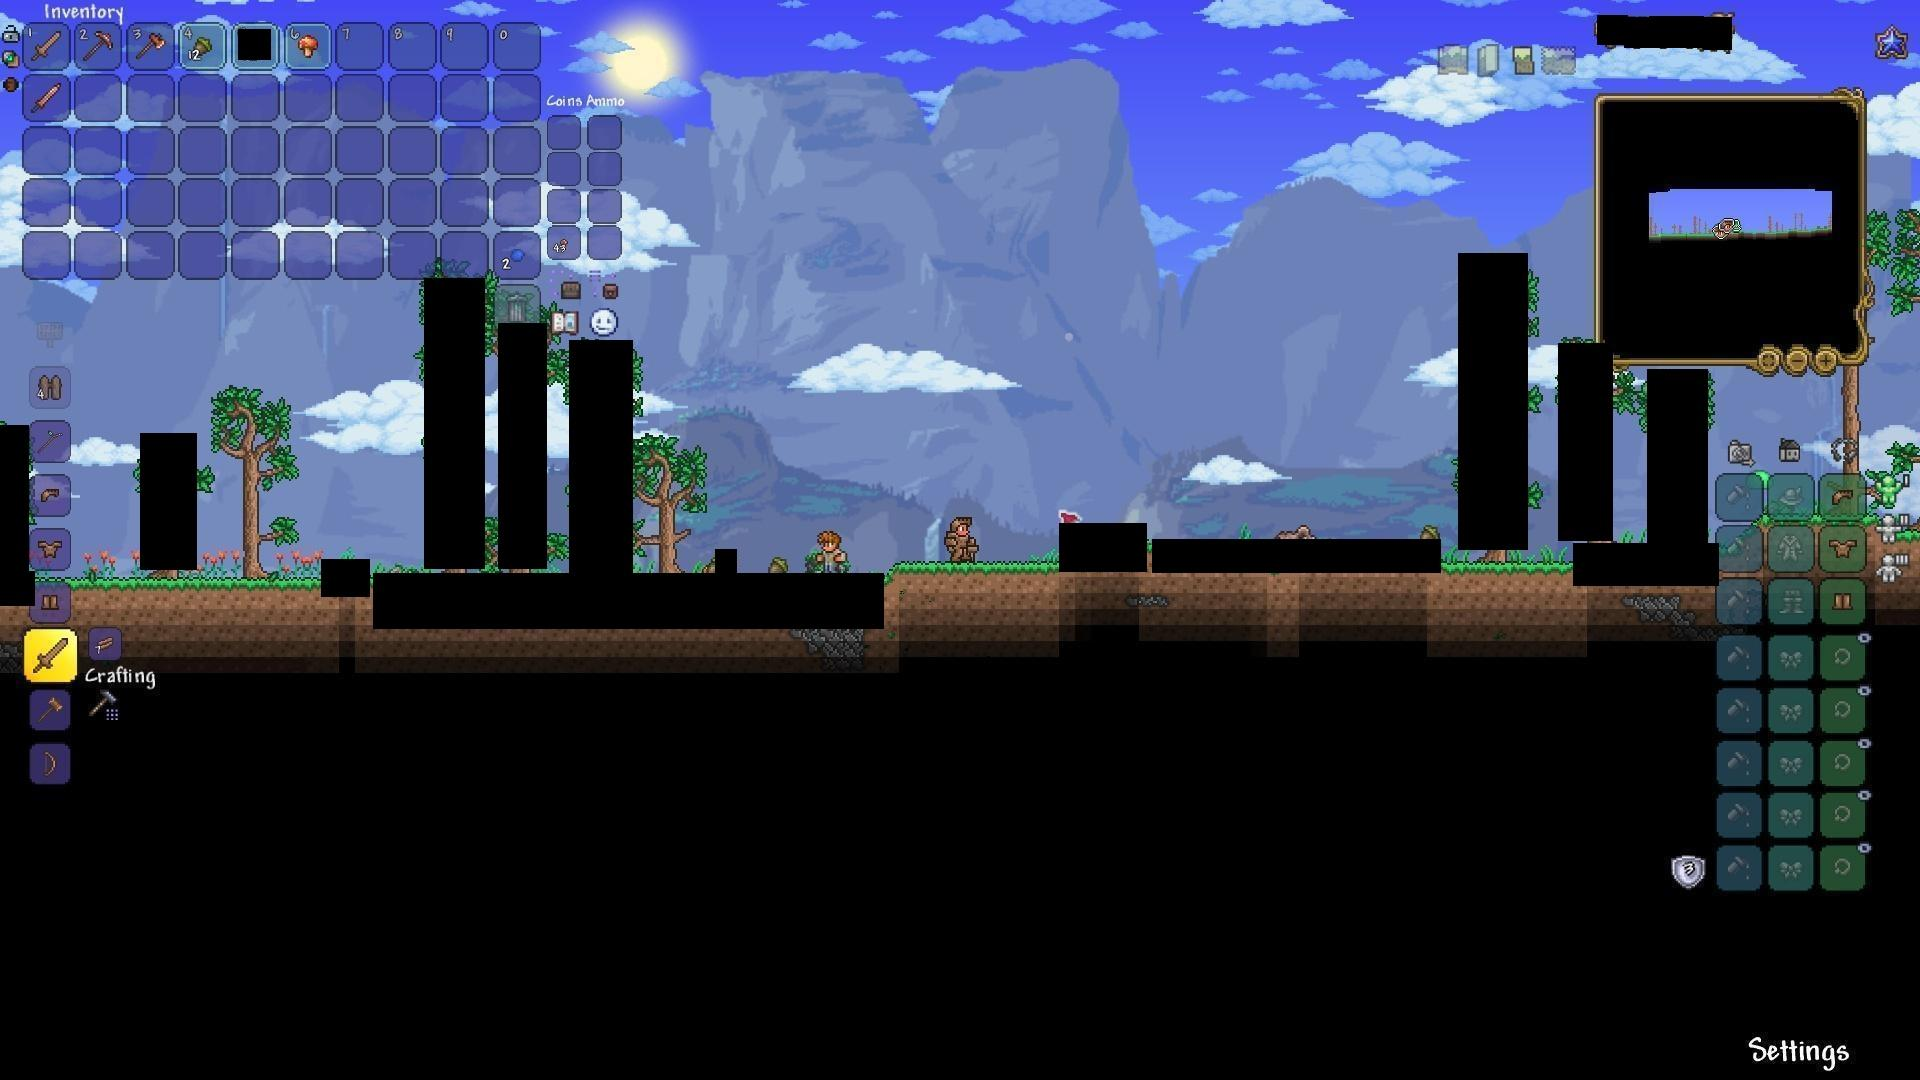breastplate: (36, 538, 66, 559), (1830, 537, 1859, 558)
dirt: (69, 571, 318, 618), (890, 560, 1051, 605), (1444, 553, 1573, 585)
helmet: (36, 481, 66, 509), (1826, 483, 1857, 510)
legs: (37, 589, 62, 618), (1832, 588, 1857, 616)
tree: (214, 375, 285, 570), (636, 429, 705, 574)
wood: (90, 632, 123, 661)
